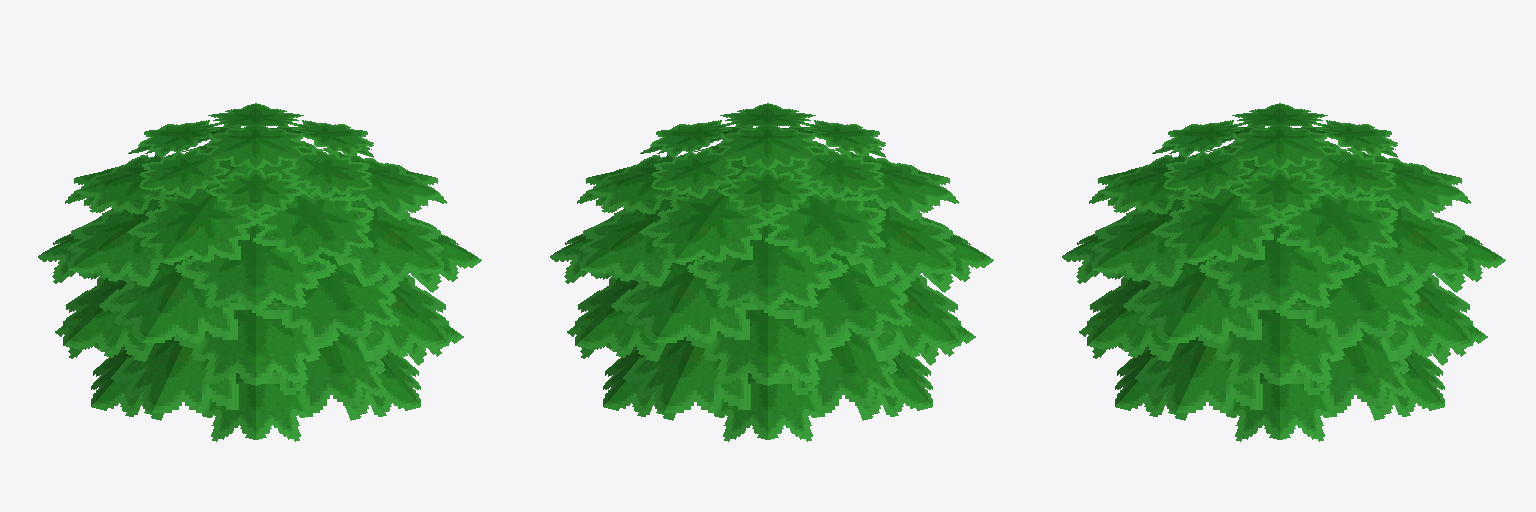
The picture shows the model from 3 angles: view 1: azimuth 30°, elevation 25°; view 2: azimuth 150°, elevation 25°; view 3: azimuth 270°, elevation 25°; orthographic projection.
Size of the model in its own units: 192 by 109 by 195.
1 materials, 1 textured.